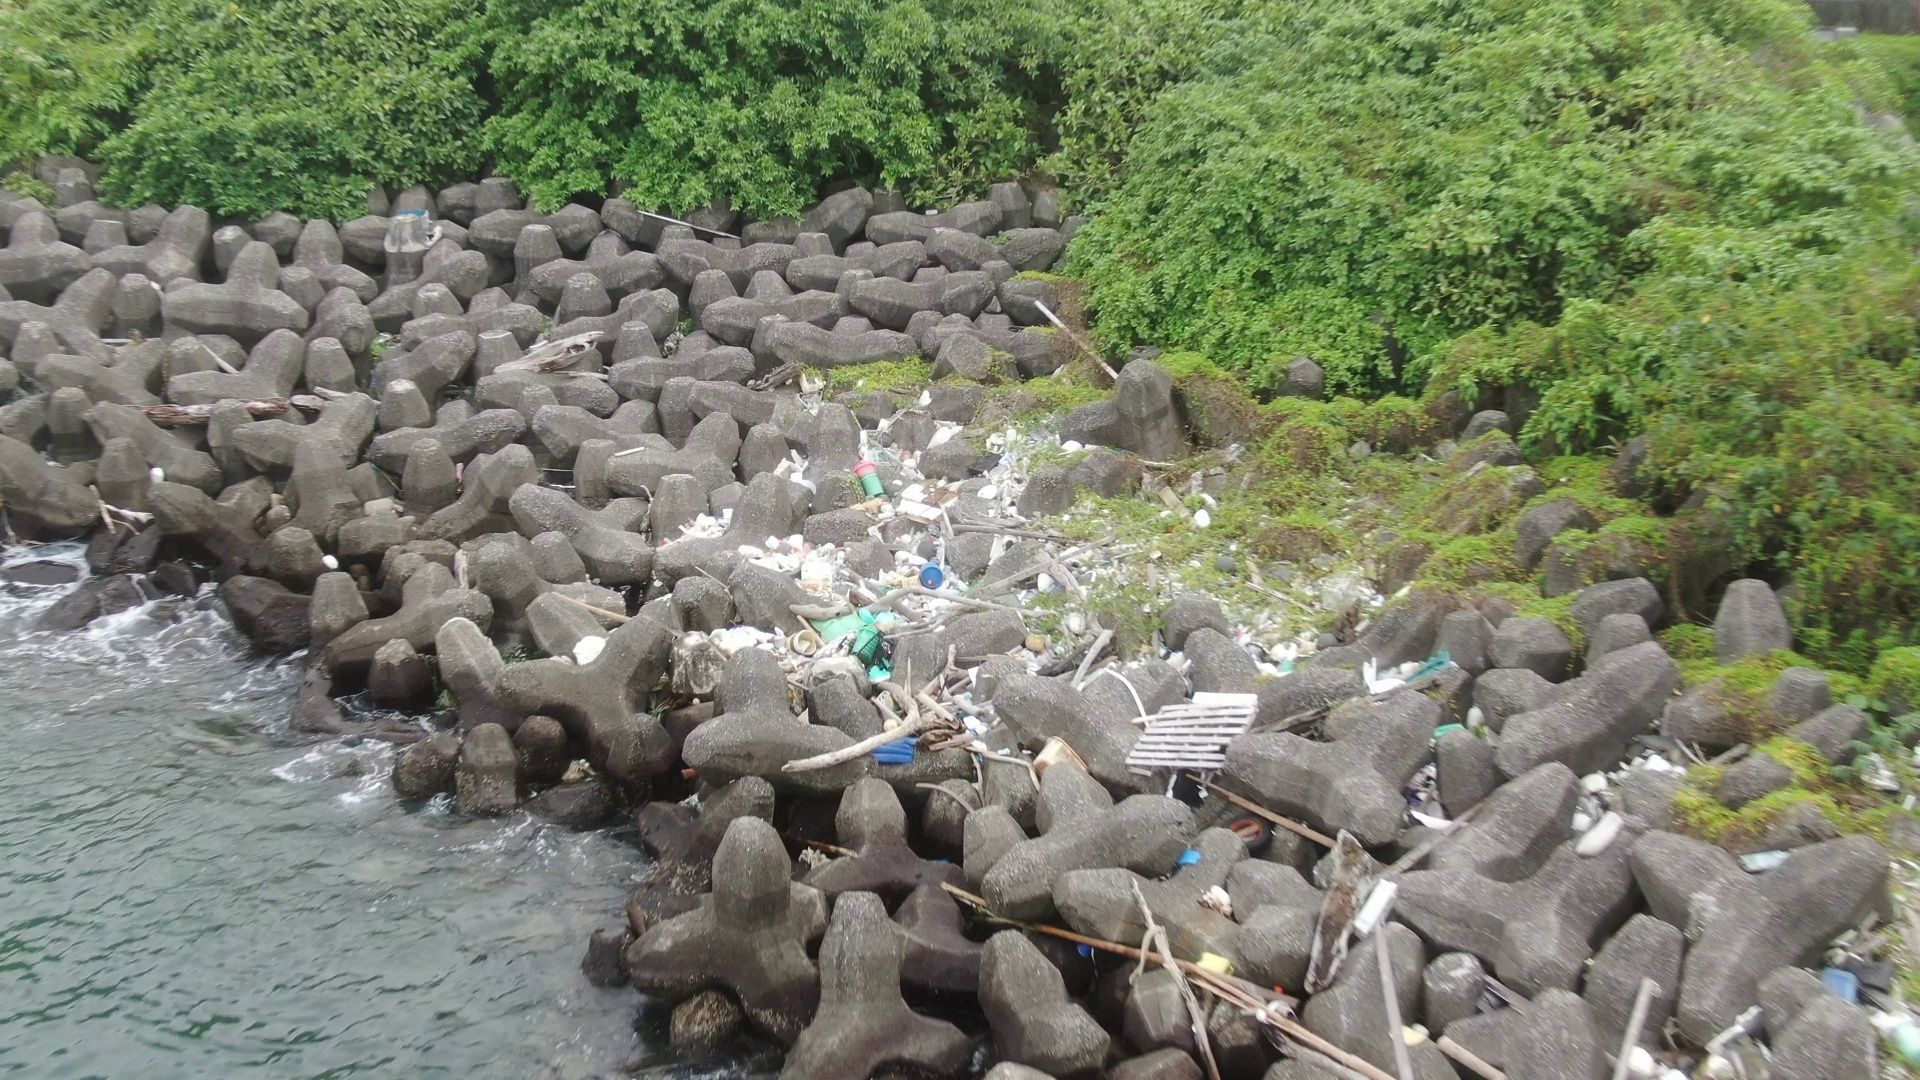garbage: (651, 381, 1309, 781), (1083, 936, 1317, 1040), (1366, 640, 1468, 840), (1596, 997, 1797, 1080), (1557, 733, 1683, 861), (1145, 800, 1269, 919), (1815, 906, 1896, 1021), (1346, 869, 1402, 945), (1373, 1010, 1447, 1067), (1741, 840, 1795, 876)
